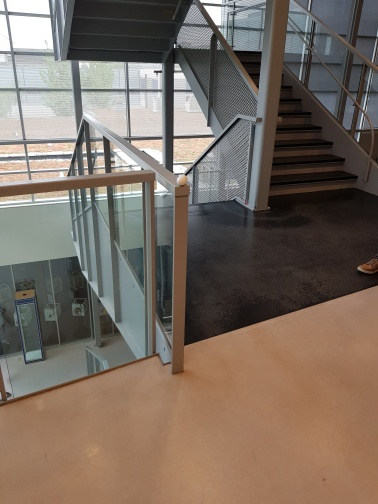egg: (174, 172, 190, 186)
